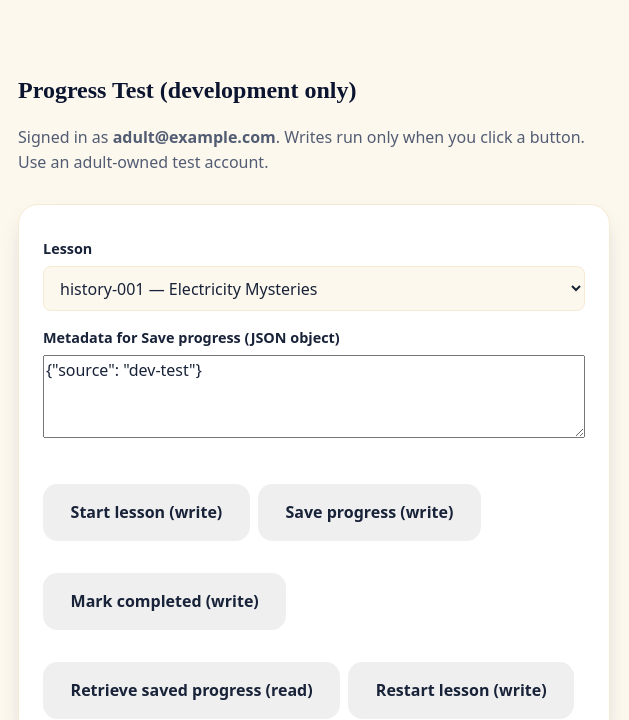
ProgressTestPage › marks the lesson completed and shows completed_at
What coordinates should you click on to do the following:
click the button "Mark completed (write)"
I would click on:
 (165, 602)
Its box is [43,573,286,630].
(page scrolled)
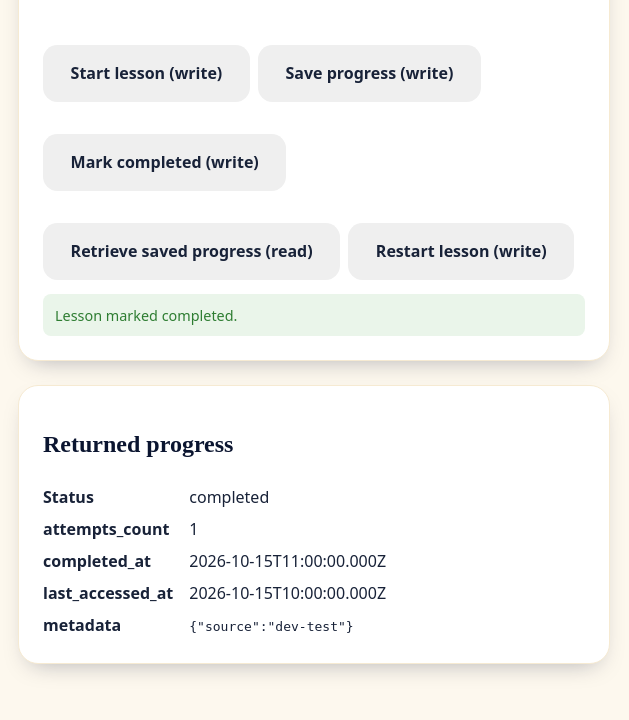
Expected: the message shows "Lesson marked completed", [55,306,237,325]
Expected: the text "completed" is shown, [189,486,269,508]
Expected: the text "2026-10-15T11:00:00.000Z" is shown, [189,550,386,572]
